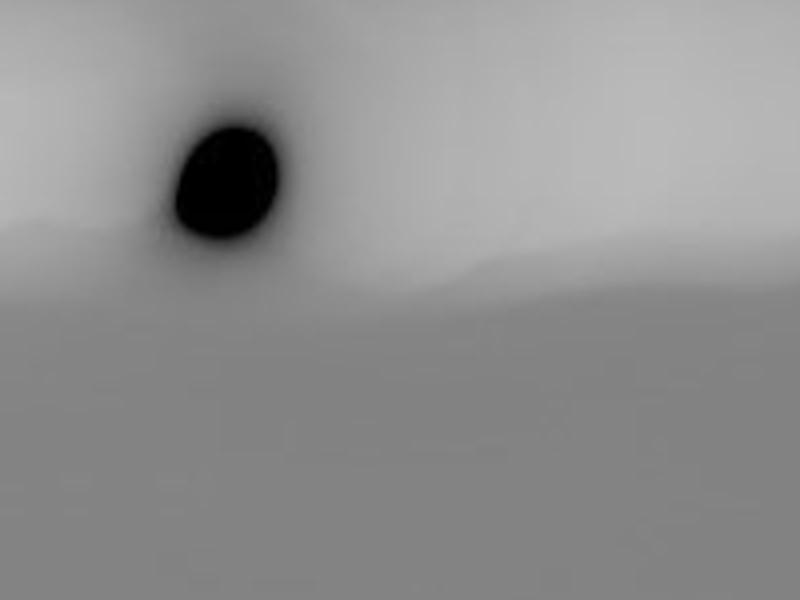defect: (170, 124, 283, 237)
